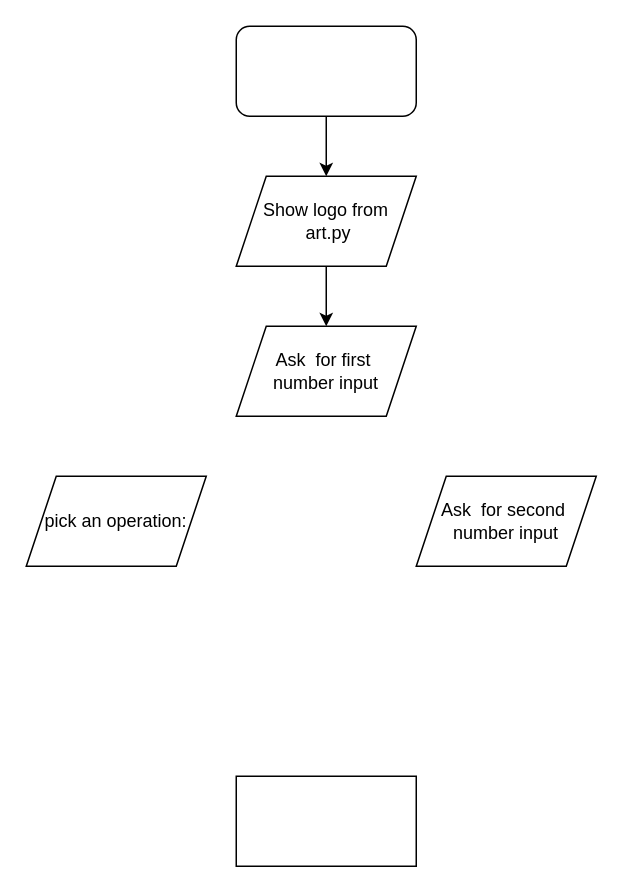
This 623x893 diagram has some shape labels left out. The shapes that lost their labels are listed below. From the top down, each one's centre as x and y in pixels, then its label:
At (325,70): "Start".
At (325,820): "Calculator".
